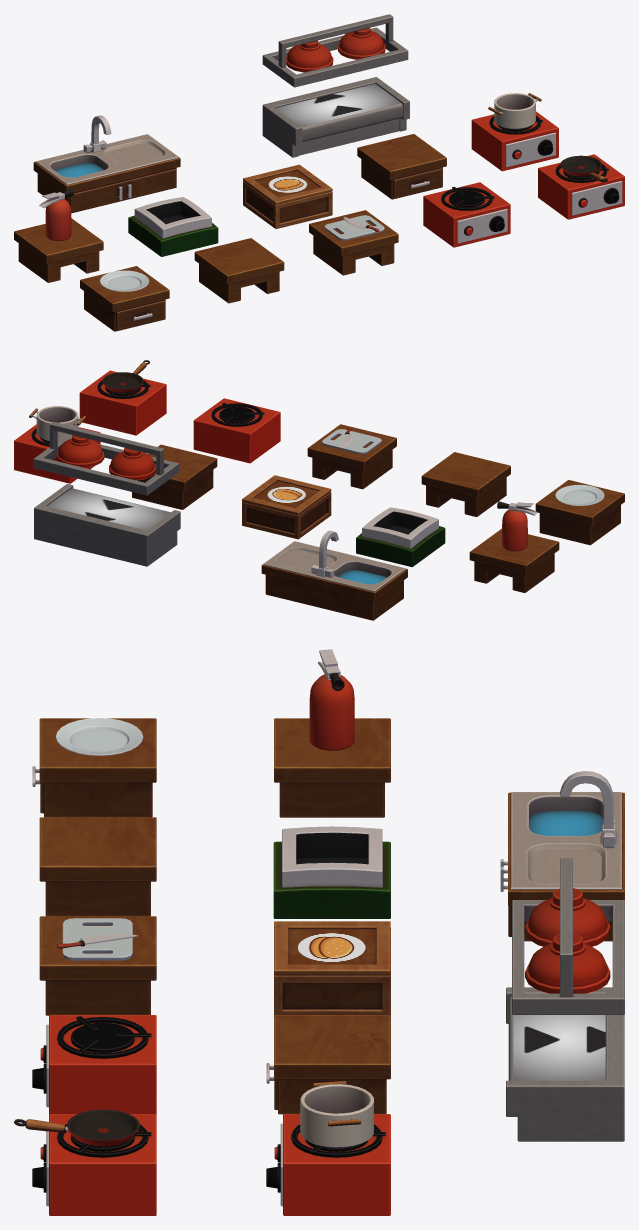
Rendered from cocinaOvercooked.fbx.
3 renders of one model, top to bottom at view 1: azimuth 30°, elevation 25°; view 2: azimuth 150°, elevation 25°; view 3: azimuth 270°, elevation 25°, orthographic. The views are drawn at different scales.
Visible parts, largest first — view 1: Delivery_Counter.001, Sink.001, Stove, Kitchen_Cabin-2, Kitchen_Cabin, Garbage_Can.001, Stove.003, Stove.004, Kitchen_Cabin.006, Kitchen_Cabin-2.002, Kitchen_Cabin.003, Ingredients_Box (+6 smaller); view 2: Delivery_Counter.001, Sink.001, Stove, Kitchen_Cabin, Garbage_Can.001, Stove.003, Kitchen_Cabin.006, Kitchen_Cabin-2.002, Kitchen_Cabin.003, Kitchen_Cabin-2, Ingredients_Box, Ingredients_Box_Lid (+6 smaller); view 3: Delivery_Counter.001, Sink.001, Kitchen_Cabin, Stove, Garbage_Can.001, Kitchen_Cabin.006, Stove.003, Kitchen_Cabin-2, Stove.004, Kitchen_Cabin-2.002, Kitchen_Cabin.003, Ingredients_Box_Lid (+6 smaller).
Boxes of the visible parts, box(x1,y1,x2,y2) form: Delivery_Counter.001: box(262, 14, 409, 157); Sink.001: box(33, 115, 180, 213); Stove: box(423, 182, 510, 247); Kitchen_Cabin-2: box(357, 134, 446, 199); Kitchen_Cabin: box(194, 238, 284, 303); Garbage_Can.001: box(128, 197, 218, 256); Stove.003: box(538, 154, 624, 219); Stove.004: box(471, 111, 558, 171); Kitchen_Cabin.006: box(14, 218, 103, 282); Kitchen_Cabin-2.002: box(80, 266, 169, 331); Kitchen_Cabin.003: box(309, 210, 398, 275); Ingredients_Box: box(243, 181, 332, 228); Delivery_Counter.001: box(33, 421, 180, 566); Sink.001: box(261, 530, 407, 620); Stove: box(193, 398, 280, 463); Kitchen_Cabin: box(421, 452, 510, 516); Garbage_Can.001: box(356, 507, 445, 567); Stove.003: box(79, 370, 166, 435); Kitchen_Cabin.006: box(469, 528, 559, 592); Kitchen_Cabin-2.002: box(535, 480, 624, 545); Kitchen_Cabin.003: box(307, 424, 396, 489); Kitchen_Cabin-2: box(132, 444, 217, 509); Ingredients_Box: box(242, 492, 331, 539); Ingredients_Box_Lid: box(242, 475, 331, 515); Delivery_Counter.001: box(506, 858, 624, 1141); Sink.001: box(500, 771, 624, 941); Kitchen_Cabin: box(39, 817, 156, 916); Stove: box(32, 1015, 156, 1114); Garbage_Can.001: box(273, 826, 390, 918); Kitchen_Cabin.006: box(274, 718, 390, 817); Stove.003: box(32, 1114, 156, 1215); Kitchen_Cabin-2: box(266, 1015, 390, 1114); Stove.004: box(266, 1114, 390, 1215); Kitchen_Cabin-2.002: box(32, 718, 156, 817); Kitchen_Cabin.003: box(39, 916, 156, 1015); Ingredients_Box_Lid: box(274, 921, 390, 975).
Bounding box in the file's own units: 1800 × 352 × 1044.
3 materials, 3 textured.
